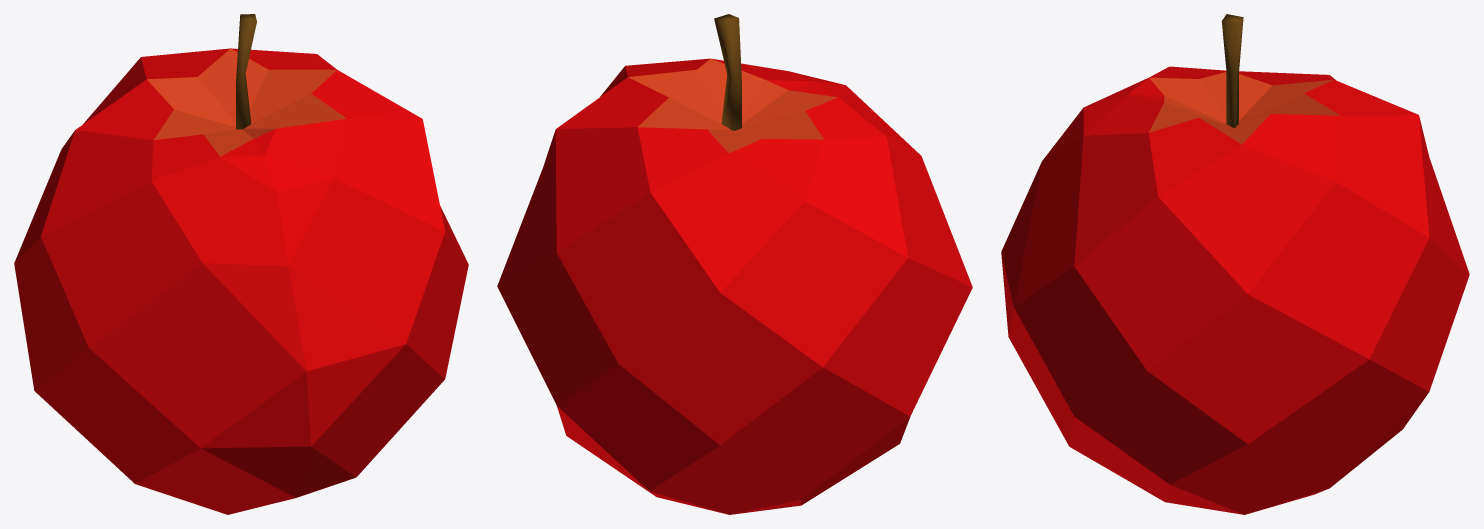
Rendered from Apple.fbx.
3 views of the same model, side by side, from view 1: azimuth 30°, elevation 25°; view 2: azimuth 150°, elevation 25°; view 3: azimuth 270°, elevation 25° (orthographic).
Parts seen in each view (by area): view 1: Sphere; view 2: Sphere; view 3: Sphere.
Boxes of the visible parts, box(x1,y1,x2,y2) form: Sphere: box(14, 14, 468, 514); Sphere: box(497, 14, 972, 514); Sphere: box(1001, 14, 1469, 514).
Bounding box in the file's own units: 187 × 215 × 196.
